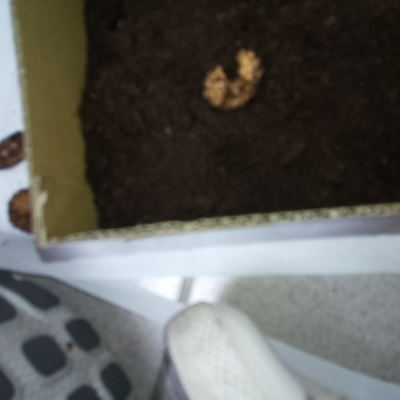eggs: (196, 44, 270, 114)
